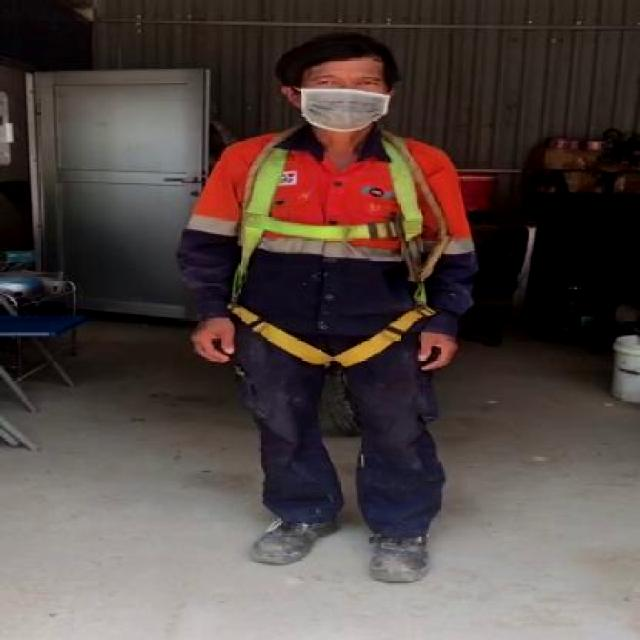face_mask: (300, 71, 388, 131)
hand_noglove: (181, 309, 241, 369), (414, 325, 460, 377)
head_helmet: (282, 30, 400, 76)
person: (173, 39, 487, 587)
shoes: (245, 498, 344, 568), (362, 512, 436, 582)
